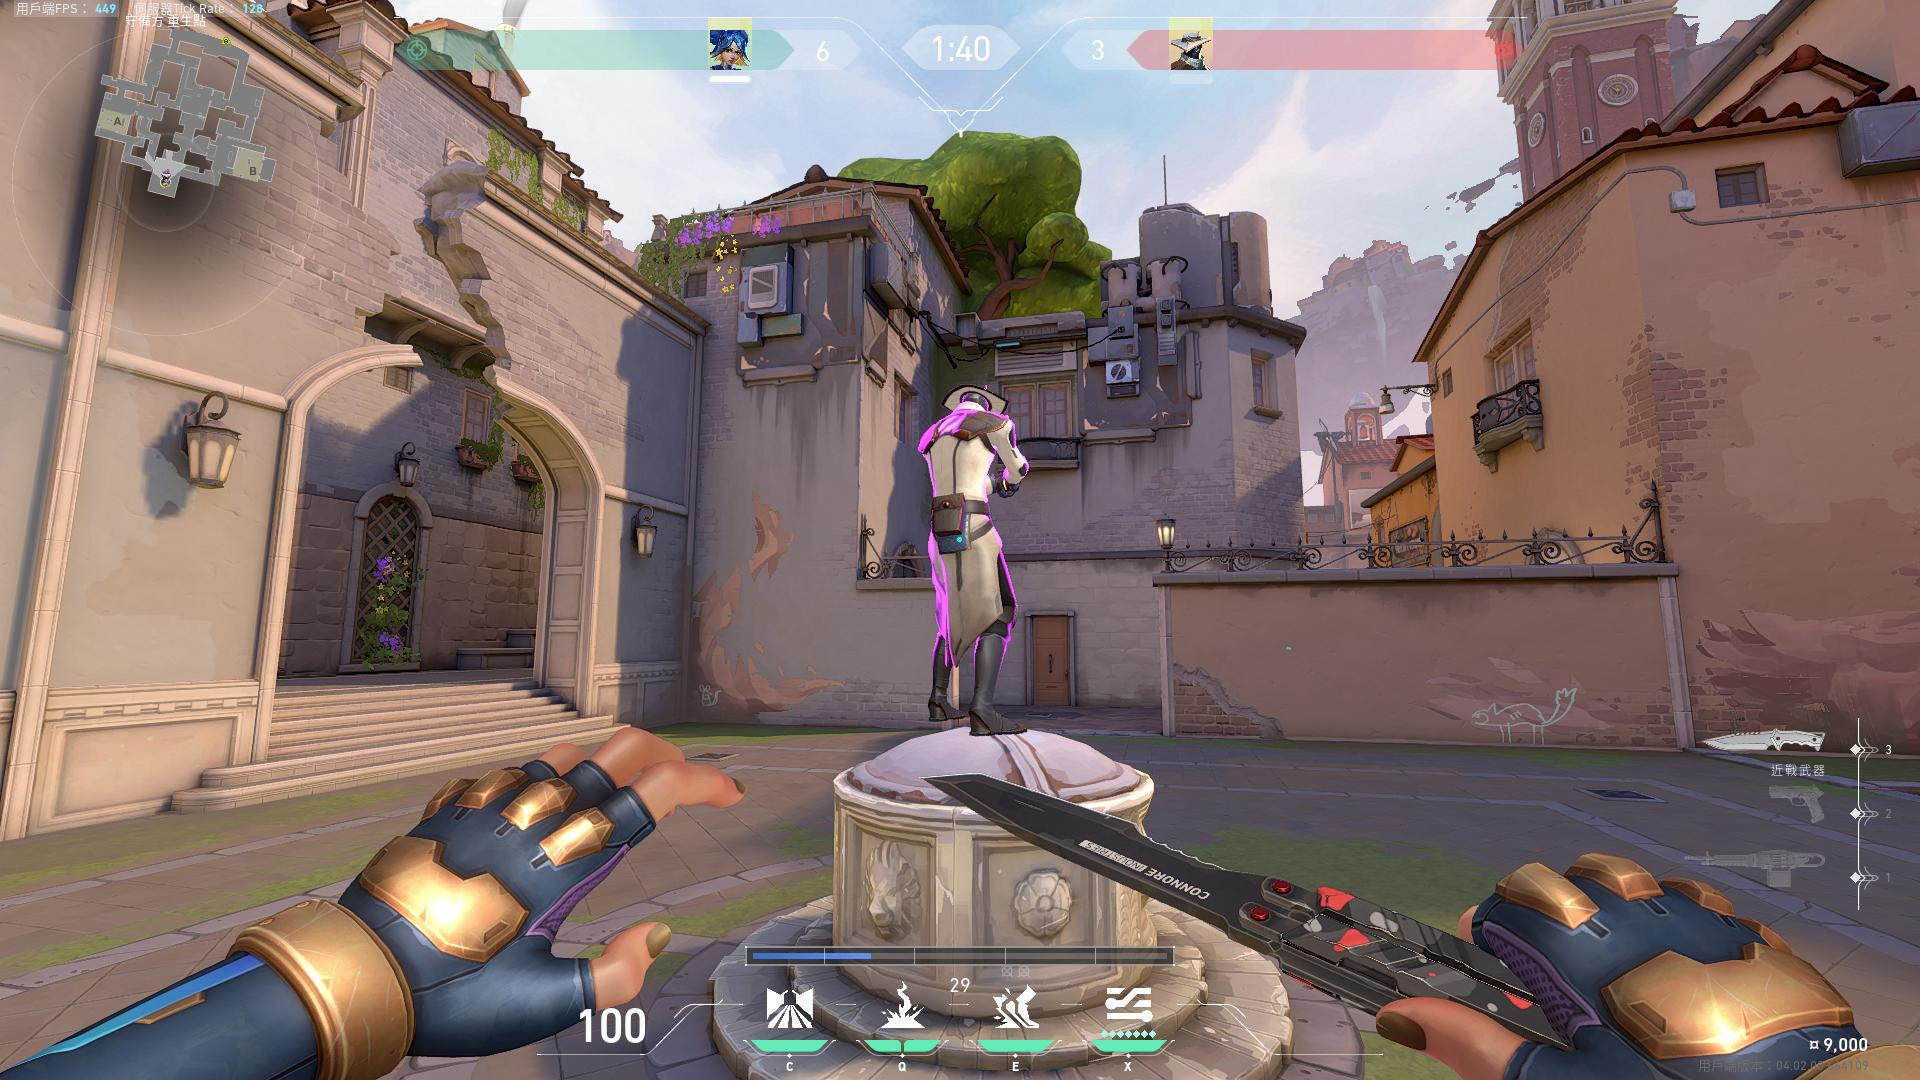enemyBody: (938, 429, 986, 506)
enemyHead: (963, 392, 980, 411)
